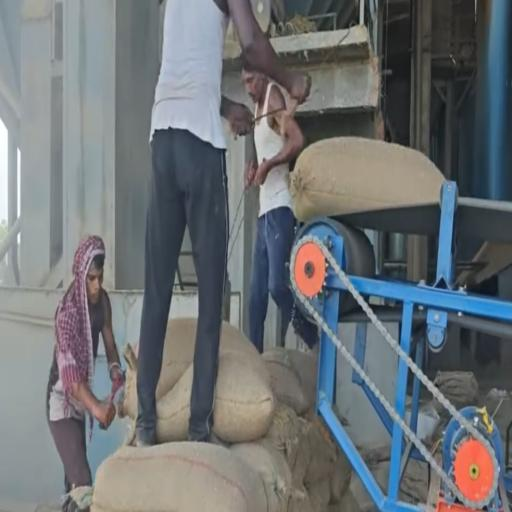Rice-bag-10: (290, 136, 444, 221), (90, 441, 270, 511), (212, 349, 275, 442), (262, 348, 317, 415), (157, 364, 193, 442)
c-belt: (290, 182, 512, 511)
other: (0, 0, 159, 501), (136, 0, 311, 447), (269, 0, 512, 199), (46, 235, 124, 492), (241, 64, 303, 352)
